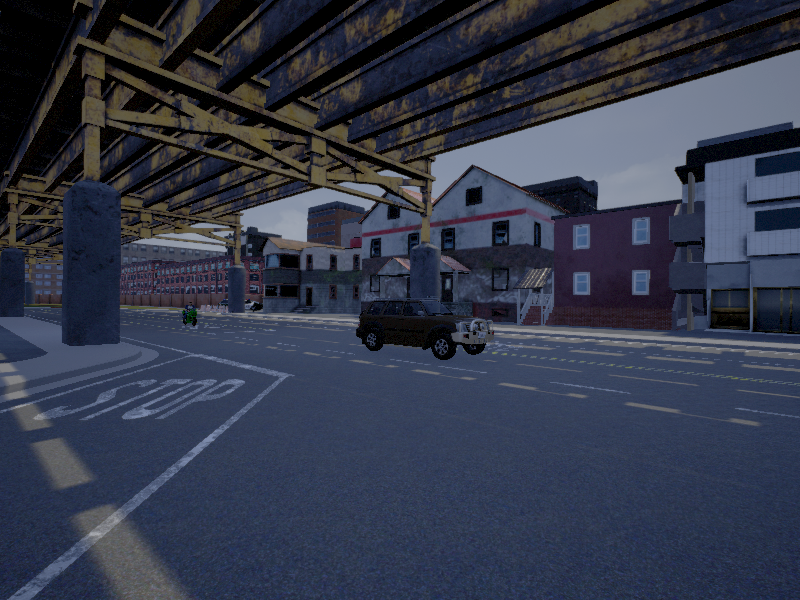benign: (358, 300, 495, 359)
